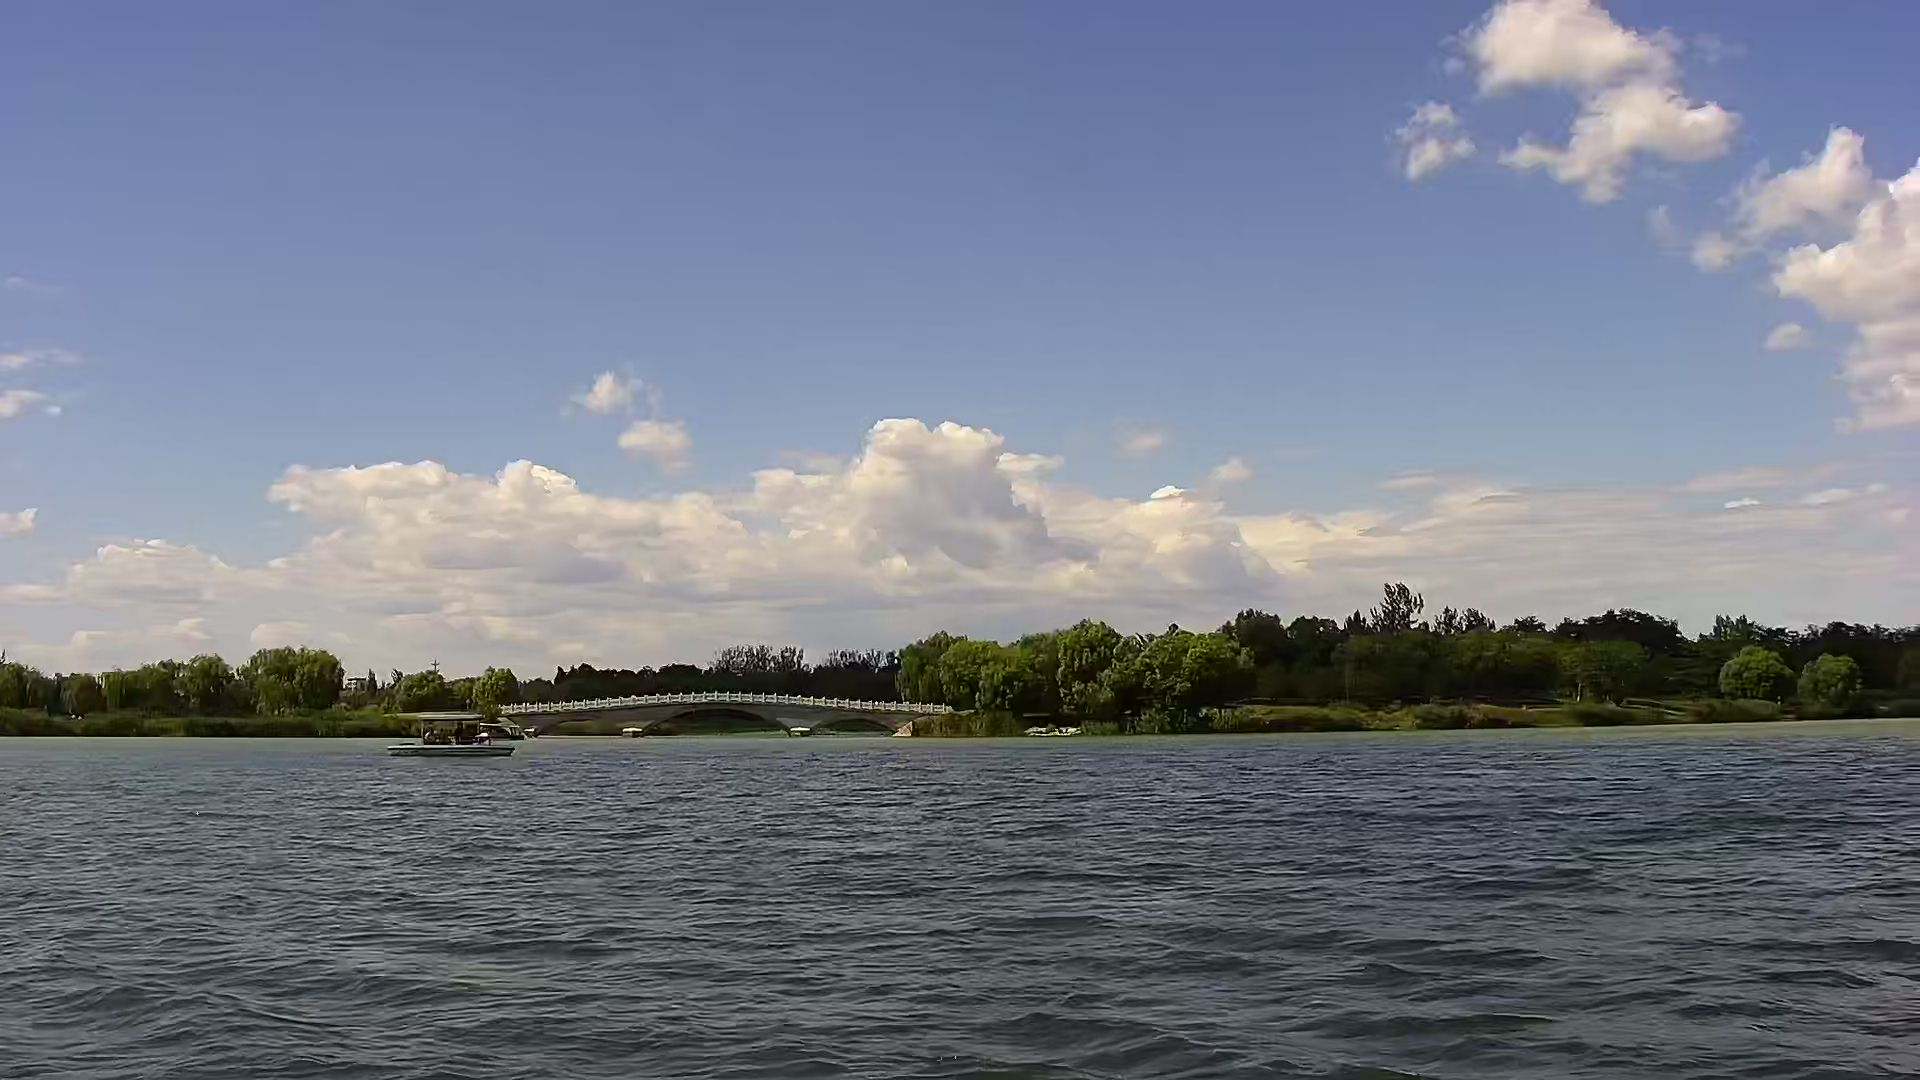boat: (388, 705, 514, 764)
bridge: (510, 698, 948, 740)
